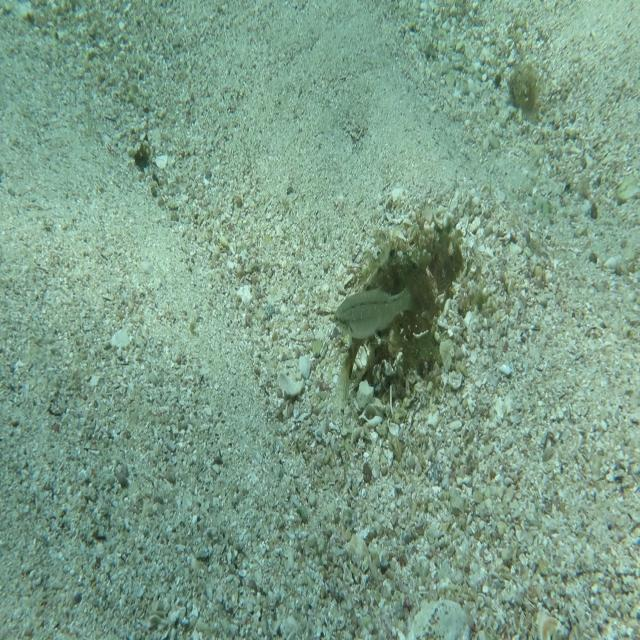BK_SW: (335, 236, 431, 403)
female: (333, 266, 428, 340)
nest: (329, 209, 449, 408)
